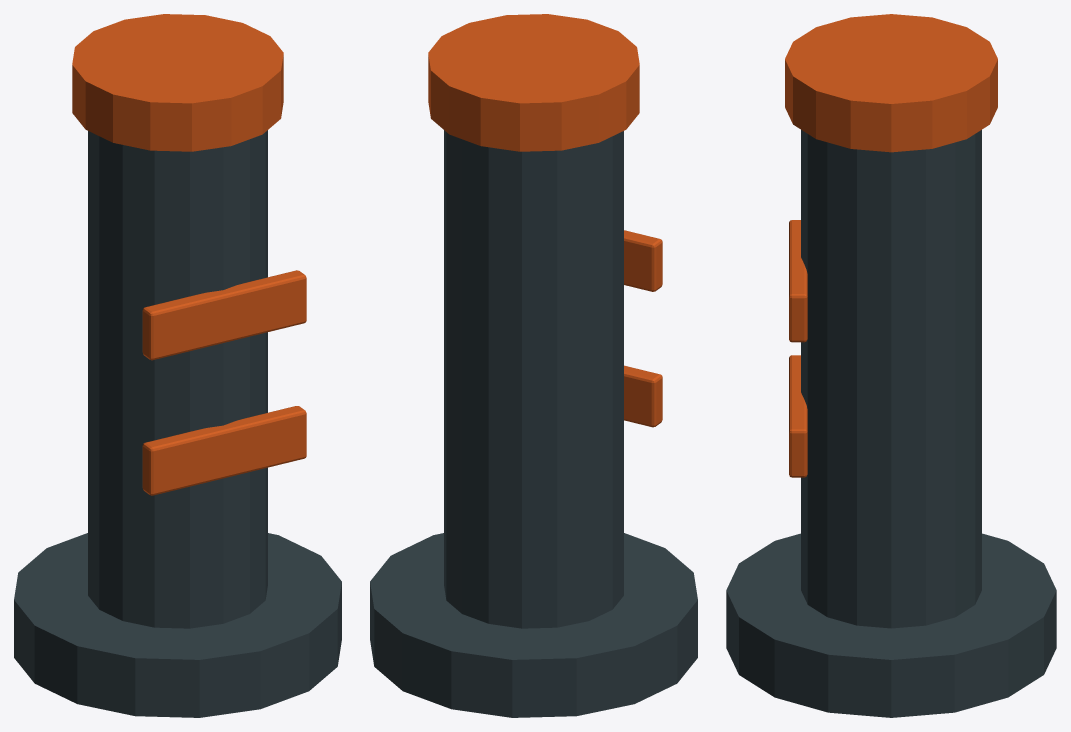
The model's file is dz_hazard_bollard.glb.
3 views of the same model, side by side, from view 1: azimuth 30°, elevation 25°; view 2: azimuth 150°, elevation 25°; view 3: azimuth 270°, elevation 25° (orthographic).
Parts seen in each view (by area): view 1: BollardBody, BollardBase, BollardCap, BollardBandB, BollardBandA; view 2: BollardBody, BollardBase, BollardCap, BollardBandA, BollardBandB; view 3: BollardBody, BollardBase, BollardCap, BollardBandA, BollardBandB.
Part boxes in pixels (left/top/right/bottom): BollardBody: left=88, top=130, right=267, bottom=628; BollardBase: left=14, top=533, right=341, bottom=717; BollardCap: left=72, top=14, right=283, bottom=151; BollardBandB: left=142, top=270, right=306, bottom=360; BollardBandA: left=142, top=406, right=306, bottom=495; BollardBody: left=444, top=130, right=623, bottom=628; BollardBase: left=370, top=533, right=697, bottom=717; BollardCap: left=428, top=14, right=639, bottom=151; BollardBandA: left=624, top=365, right=662, bottom=427; BollardBandB: left=624, top=230, right=662, bottom=291; BollardBody: left=801, top=130, right=981, bottom=628; BollardBase: left=726, top=533, right=1056, bottom=717; BollardCap: left=785, top=14, right=997, bottom=152; BollardBandA: left=789, top=355, right=807, bottom=477; BollardBandB: left=789, top=220, right=807, bottom=342.
Bounding box in the file's own units: 0.62 × 1.22 × 0.62.
